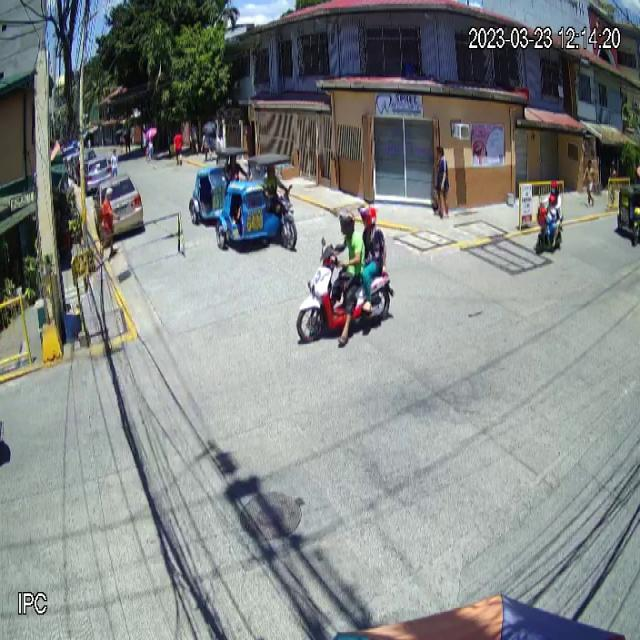Motorcycle: (297, 236, 395, 344)
Tricycle: (215, 150, 298, 252)
